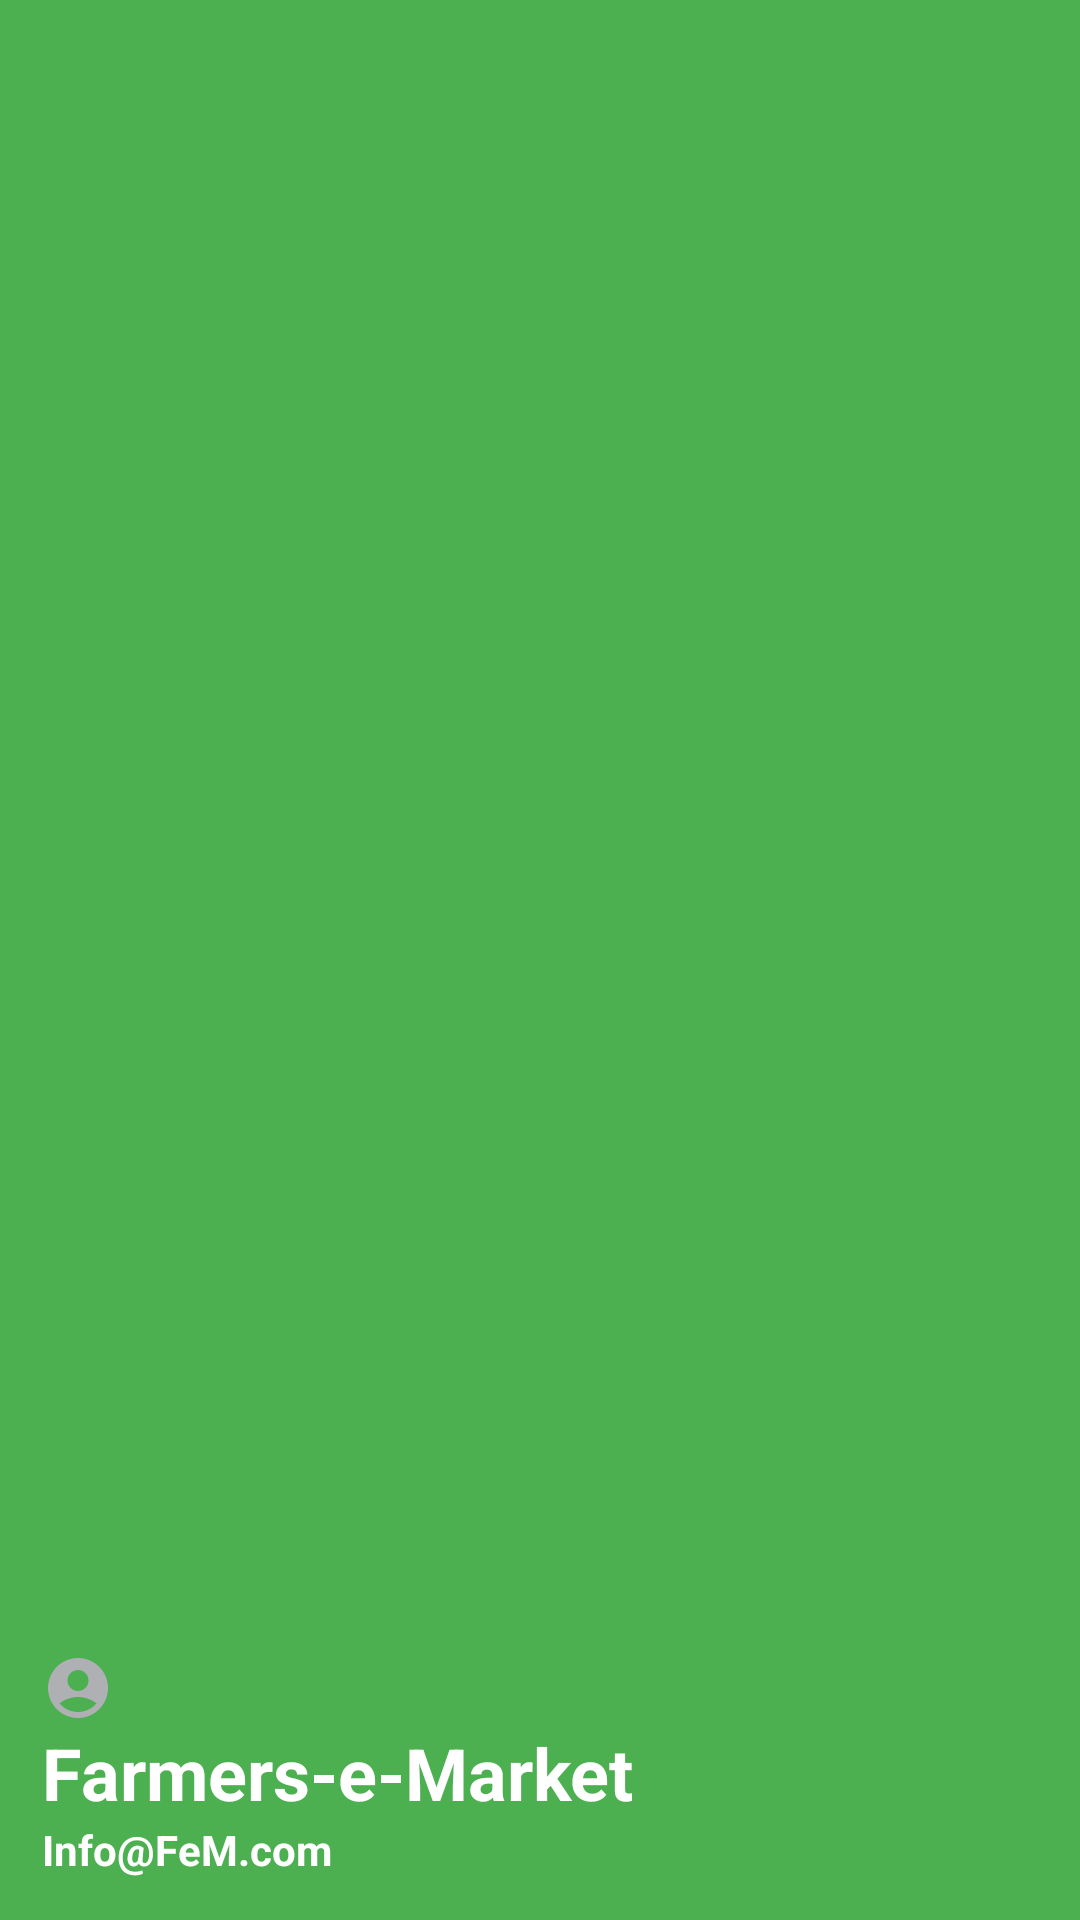

Named icons in this screenshot (1080*1920) and their bounding boxes, (x1, y1, x2, y2):
Header Image: (48, 1658, 108, 1718)
